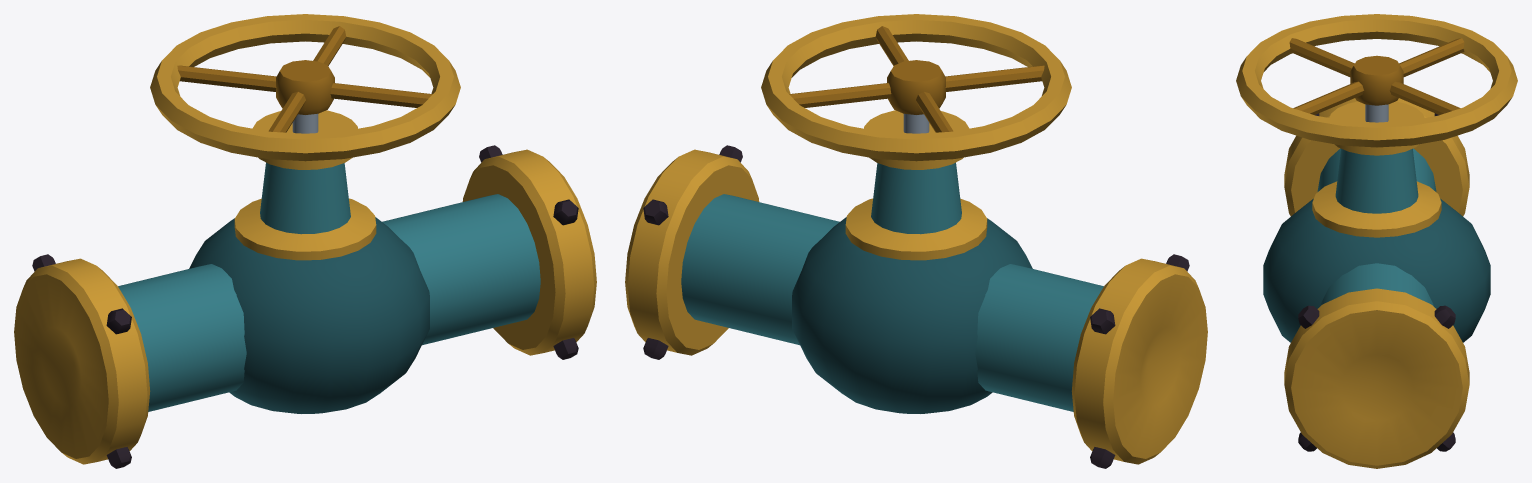
The model's file is Valve_21.glb.
3 renders of one model, left to right at view 1: azimuth 30°, elevation 25°; view 2: azimuth 150°, elevation 25°; view 3: azimuth 270°, elevation 25°, orthographic. The views are drawn at different scales.
Parts seen in each view (by area): view 1: Valve_21; view 2: Valve_21; view 3: Valve_21.
Part boxes in pixels (bbox=[...]): Valve_21: bbox=[14, 14, 596, 468]; Valve_21: bbox=[625, 14, 1207, 468]; Valve_21: bbox=[1236, 14, 1517, 468].
Size of the model in its own units: 3.06 by 1.98 by 1.69.
